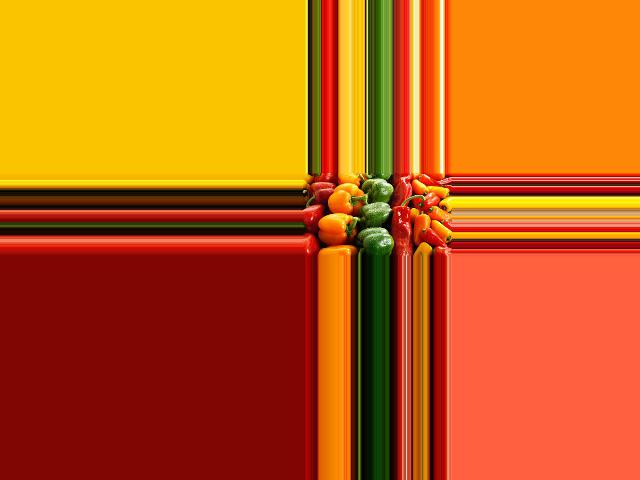bell_pepper: (420, 227, 447, 249)
